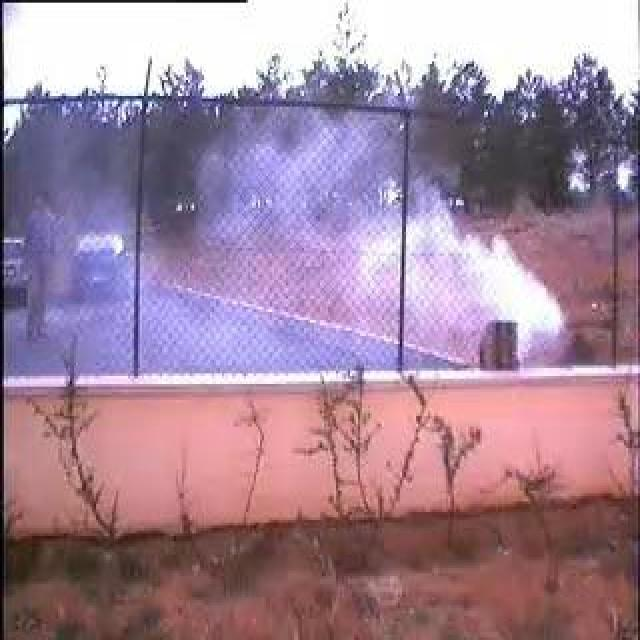Smoke: (225, 131, 563, 357)
